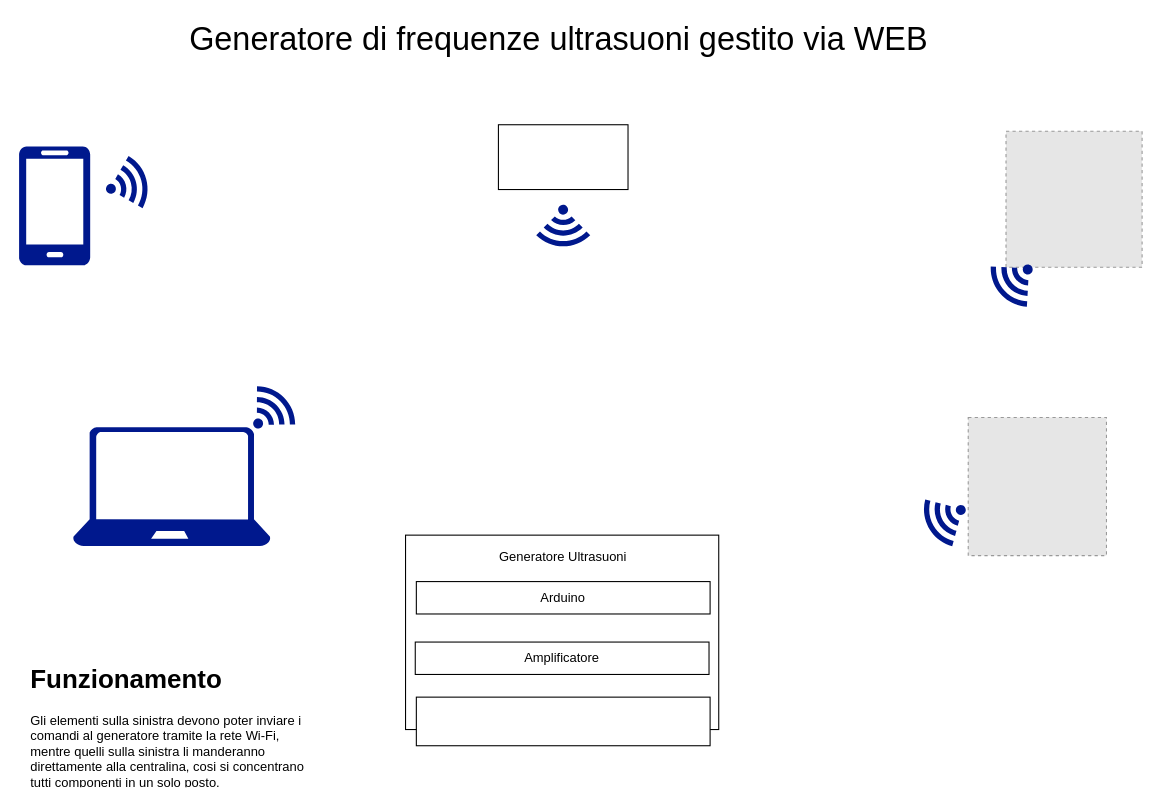
Image size: 1161x808. Some labels were removed from this diagram. Grey dashed boxes stand in for pictures. Here are the shapes that lost their labels. From the top down, the centre of each, then its label:
At point (562, 157): "Home Wi-Fi Network".
At point (562, 721): "Altoparlante utlrasuoni".
